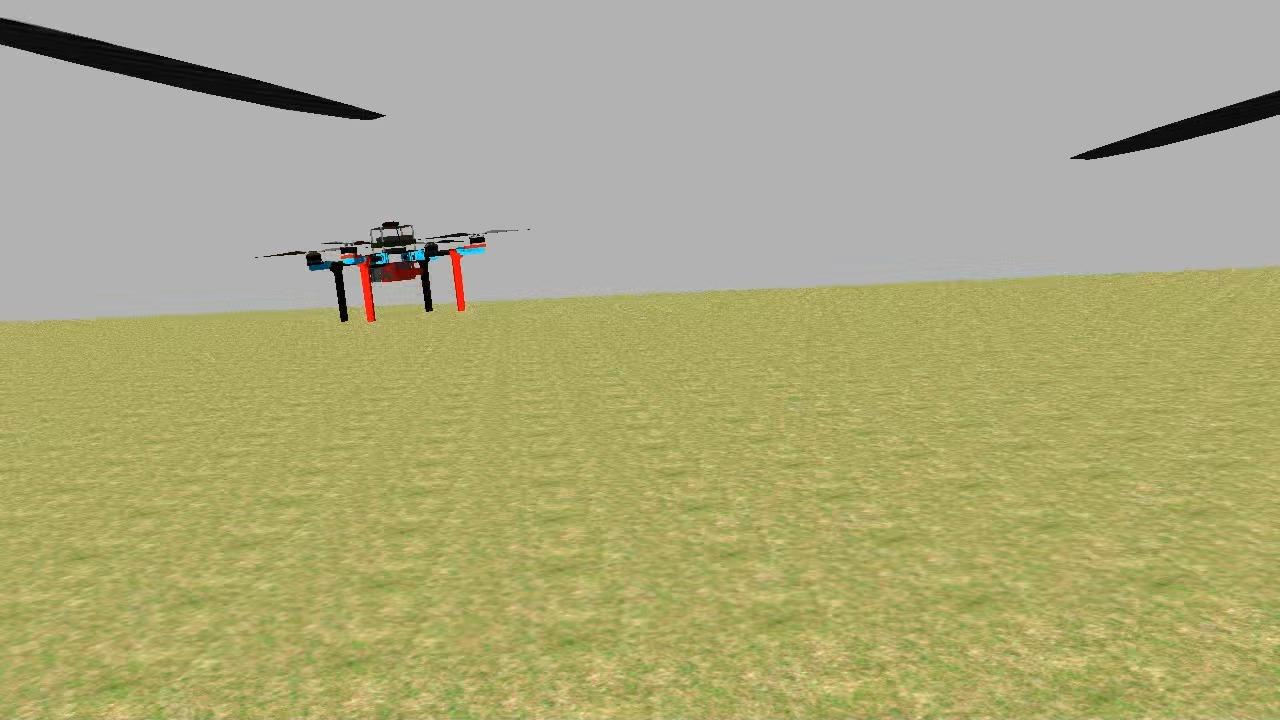UAV: (292, 212, 494, 324)
